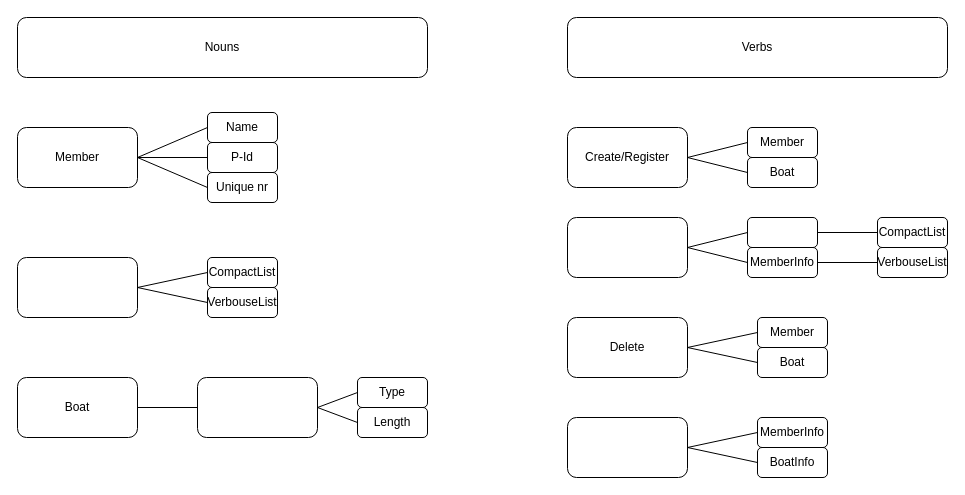
This 965x495 diagram has some shape labels left out. Each missing label, with the centre of its shape:
BostDescription: the point at 257,407
Change/Update: the point at 627,447
MemberList: the point at 77,287
Members: the point at 782,232
Show: the point at 627,247
